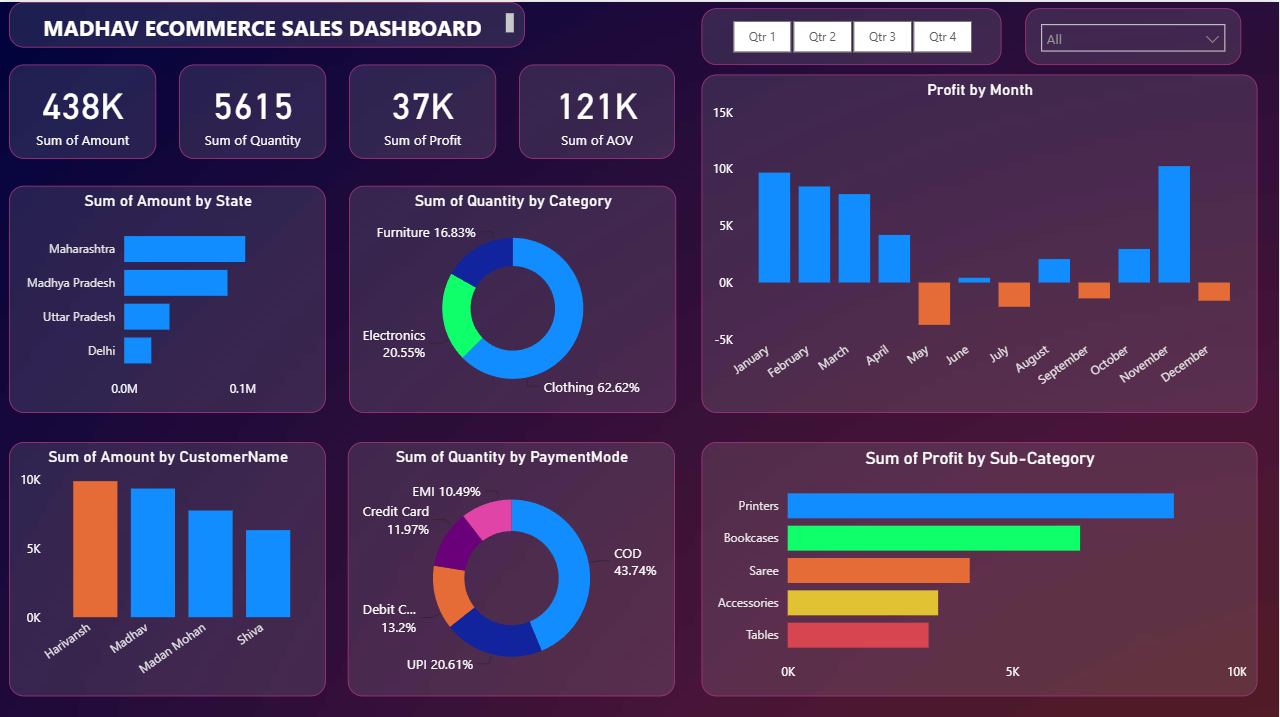

This screenshot's page, from the dashboard's own definition file:
{"tool":"powerbi","page":{"name":"Page 1","canvas":[1280,720],"ordinal":0},"visuals":[{"type":"textbox","box":[10,0,515.7,45.7],"z":0},{"type":"columnChart","title":"Profit by Month","fields":{"Category":["Orders.Order Date.Variation.Date Hierarchy.Month"],"Y":["Sum(Details.Profit)"]},"box":[702.9,72.9,555.7,338.6],"z":1000},{"type":"barChart","fields":{"Category":["Details.Sub-Category"],"Y":["Sum(Details.Profit)"]},"box":[702.9,440,555.7,254.3],"z":2000},{"type":"donutChart","fields":{"Category":["Details.Category"],"Y":["Sum(Details.Quantity)"]},"box":[350,184.3,327.1,227.1],"z":3000},{"type":"donutChart","fields":{"Y":["Sum(Details.Quantity)"],"Category":["Details.PaymentMode"]},"box":[348.6,440,327.1,254.3],"z":4000},{"type":"card","fields":{"Values":["Sum(Details.Amount)"]},"box":[10,62.9,147.1,94.3],"z":5000},{"type":"card","fields":{"Values":["Sum(Details.Quantity)"]},"box":[180,62.9,147.1,94.3],"z":6000},{"type":"card","fields":{"Values":["Sum(Details.Profit)"]},"box":[350,62.9,147.1,94.3],"z":7000},{"type":"card","fields":{"Values":["Sum(Details.AOV)"]},"box":[520,62.9,155.7,94.3],"z":8000},{"type":"barChart","fields":{"Y":["Sum(Details.Amount)"],"Category":["Orders.State"]},"box":[10,184.3,317.1,227.1],"z":9000},{"type":"columnChart","fields":{"Category":["Orders.CustomerName"],"Y":["Sum(Details.Amount)"]},"box":[10,440,317,254],"z":10000},{"type":"slicer","fields":{"Values":["Orders.Order Date.Variation.Date Hierarchy.Quarter"]},"box":[702.9,5.7,300,57.1],"z":11000},{"type":"slicer","fields":{"Values":["Orders.State"]},"box":[1025.7,5.7,215.7,57.1],"z":12000}]}

Visuals, with their boxes in screenshot pixels (x1, y1, x2, y2), scaled from the page's 1280x720 canvas onto the 1280x717 screenshot:
textbox: {"x1": 10, "y1": 0, "x2": 526, "y2": 46}
"Profit by Month" columnChart: {"x1": 703, "y1": 73, "x2": 1259, "y2": 410}
barChart - Details.Sub-Category x Sum(Details.Profit): {"x1": 703, "y1": 438, "x2": 1259, "y2": 691}
donutChart - Details.Category x Sum(Details.Quantity): {"x1": 350, "y1": 184, "x2": 677, "y2": 410}
donutChart - Sum(Details.Quantity) x Details.PaymentMode: {"x1": 349, "y1": 438, "x2": 676, "y2": 691}
card - Sum(Details.Amount): {"x1": 10, "y1": 63, "x2": 157, "y2": 157}
card - Sum(Details.Quantity): {"x1": 180, "y1": 63, "x2": 327, "y2": 157}
card - Sum(Details.Profit): {"x1": 350, "y1": 63, "x2": 497, "y2": 157}
card - Sum(Details.AOV): {"x1": 520, "y1": 63, "x2": 676, "y2": 157}
barChart - Sum(Details.Amount) x Orders.State: {"x1": 10, "y1": 184, "x2": 327, "y2": 410}
columnChart - Orders.CustomerName x Sum(Details.Amount): {"x1": 10, "y1": 438, "x2": 327, "y2": 691}
slicer - Orders.Order Date.Variation.Date Hierarchy.Quarter: {"x1": 703, "y1": 6, "x2": 1003, "y2": 63}
slicer - Orders.State: {"x1": 1026, "y1": 6, "x2": 1241, "y2": 63}
